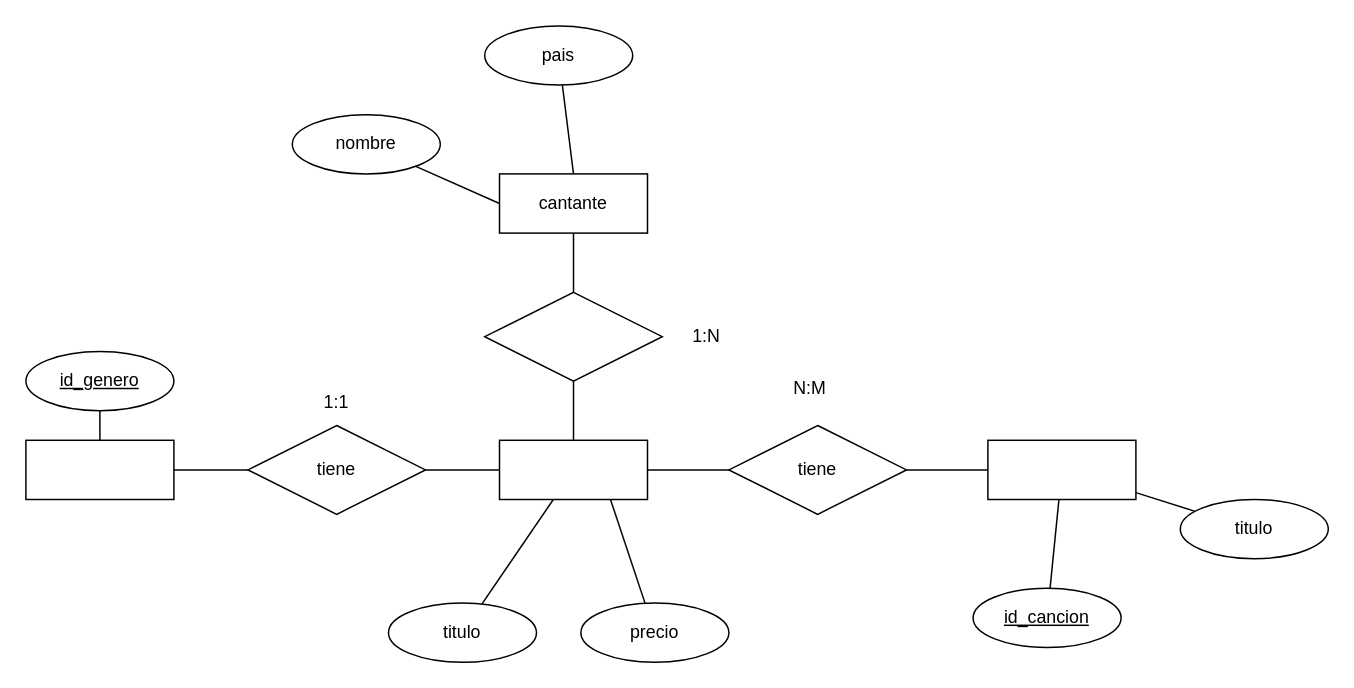
Image size: 1354x688. Some labels were removed from this diagram. The centre of each missing label's shape, as x and y in pixels:
cancion: [1061,469]
disco: [573,469]
genero_musical: [99,469]
pertenece: [572,336]
